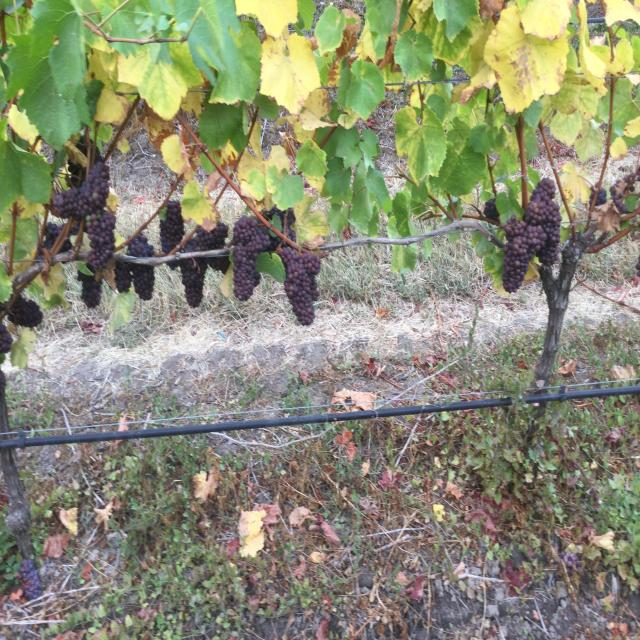grapes: (502, 215, 546, 292), (54, 162, 109, 222), (232, 217, 270, 300), (525, 178, 561, 265), (280, 247, 320, 325), (180, 257, 229, 307), (86, 210, 116, 270), (182, 222, 229, 253), (160, 200, 184, 253), (8, 295, 42, 328), (130, 263, 155, 300), (78, 272, 101, 308), (129, 233, 154, 257), (115, 262, 132, 293), (484, 198, 500, 220)
